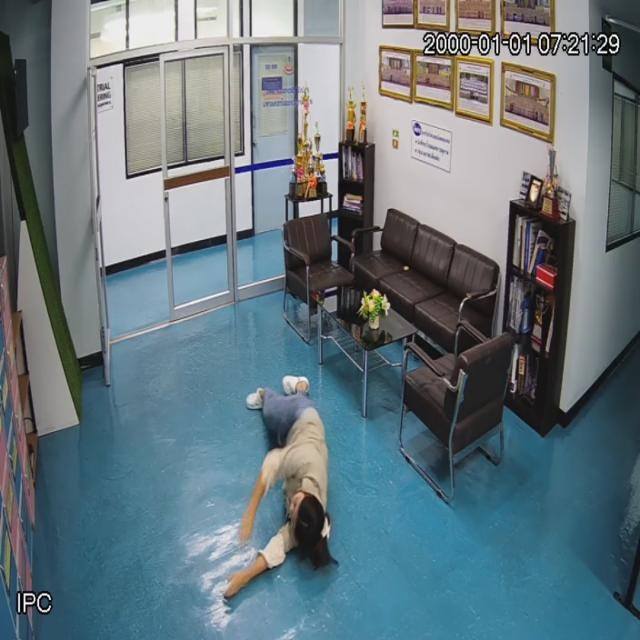fall: (245, 372, 332, 578)
